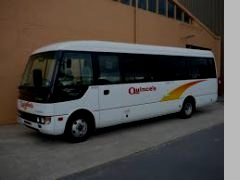bus: (17, 37, 217, 145)
